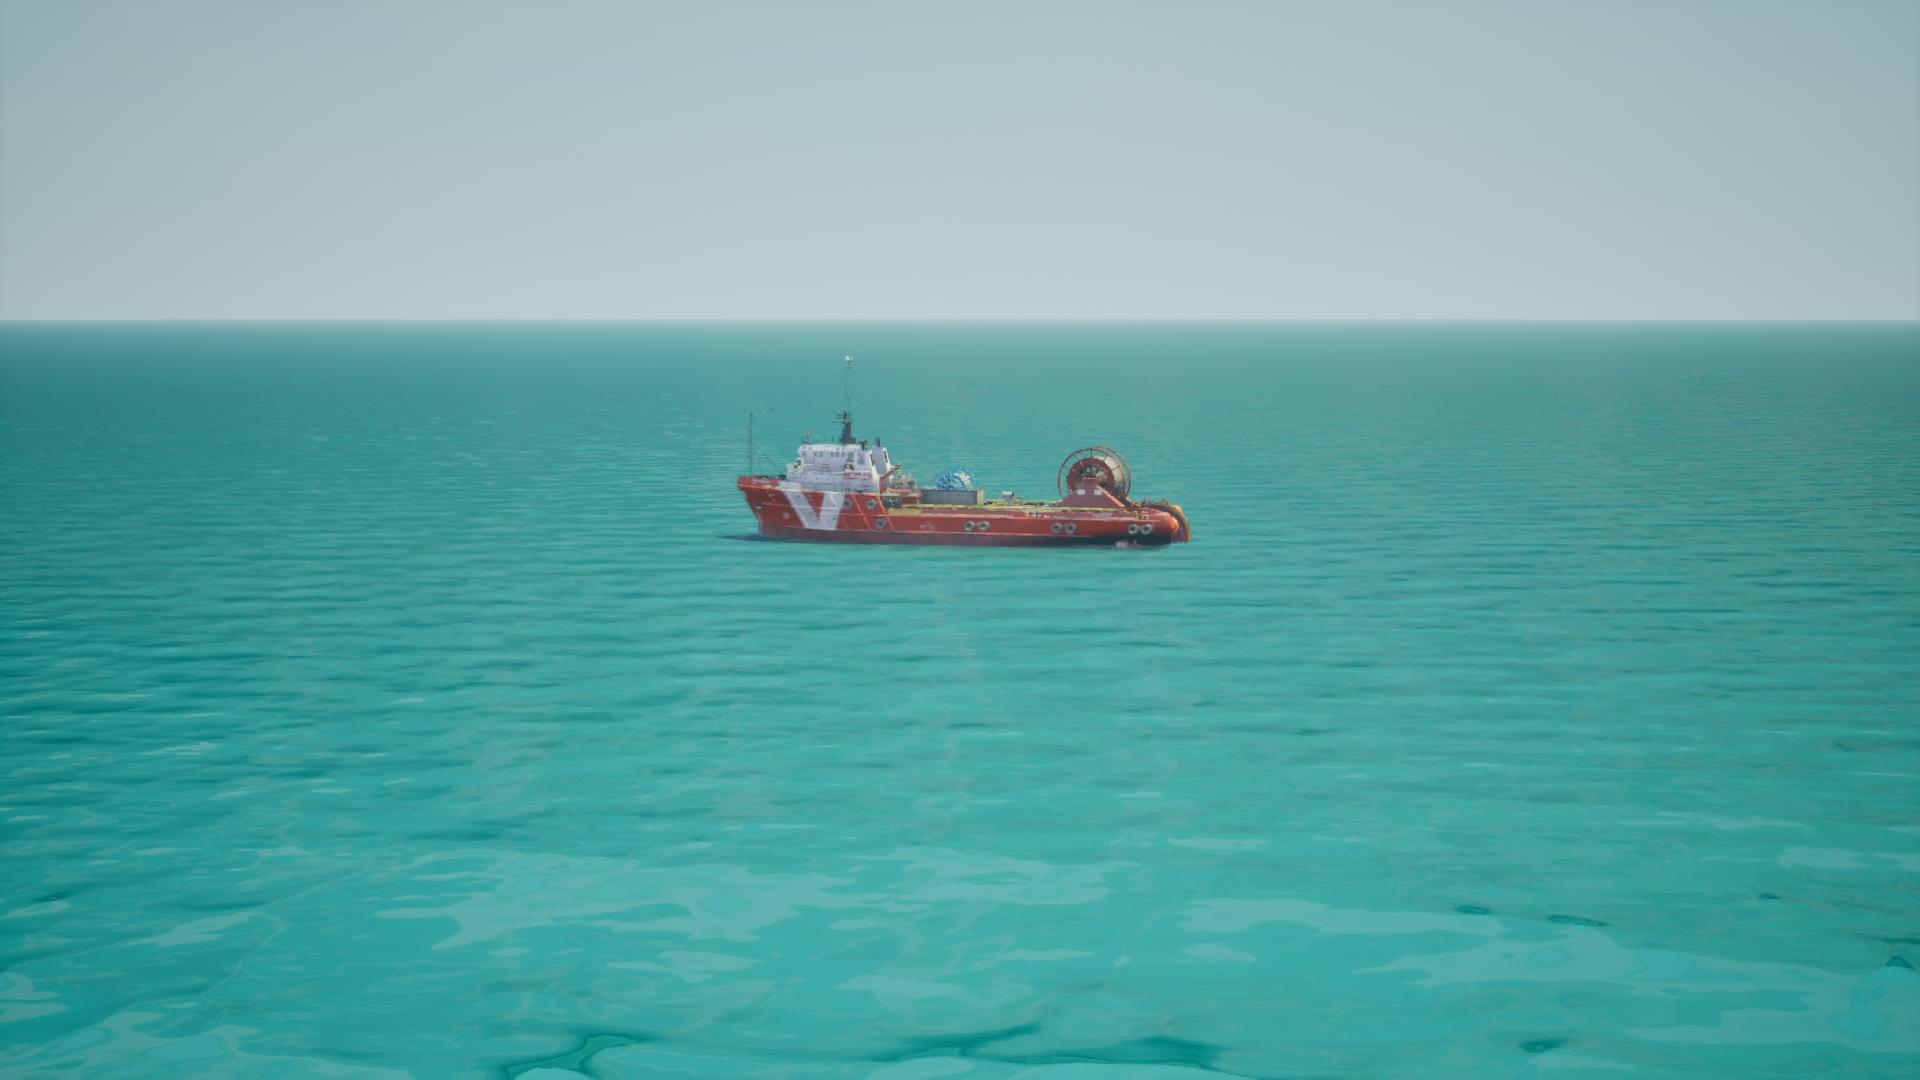Tug Boat: (731, 400, 1189, 554)
